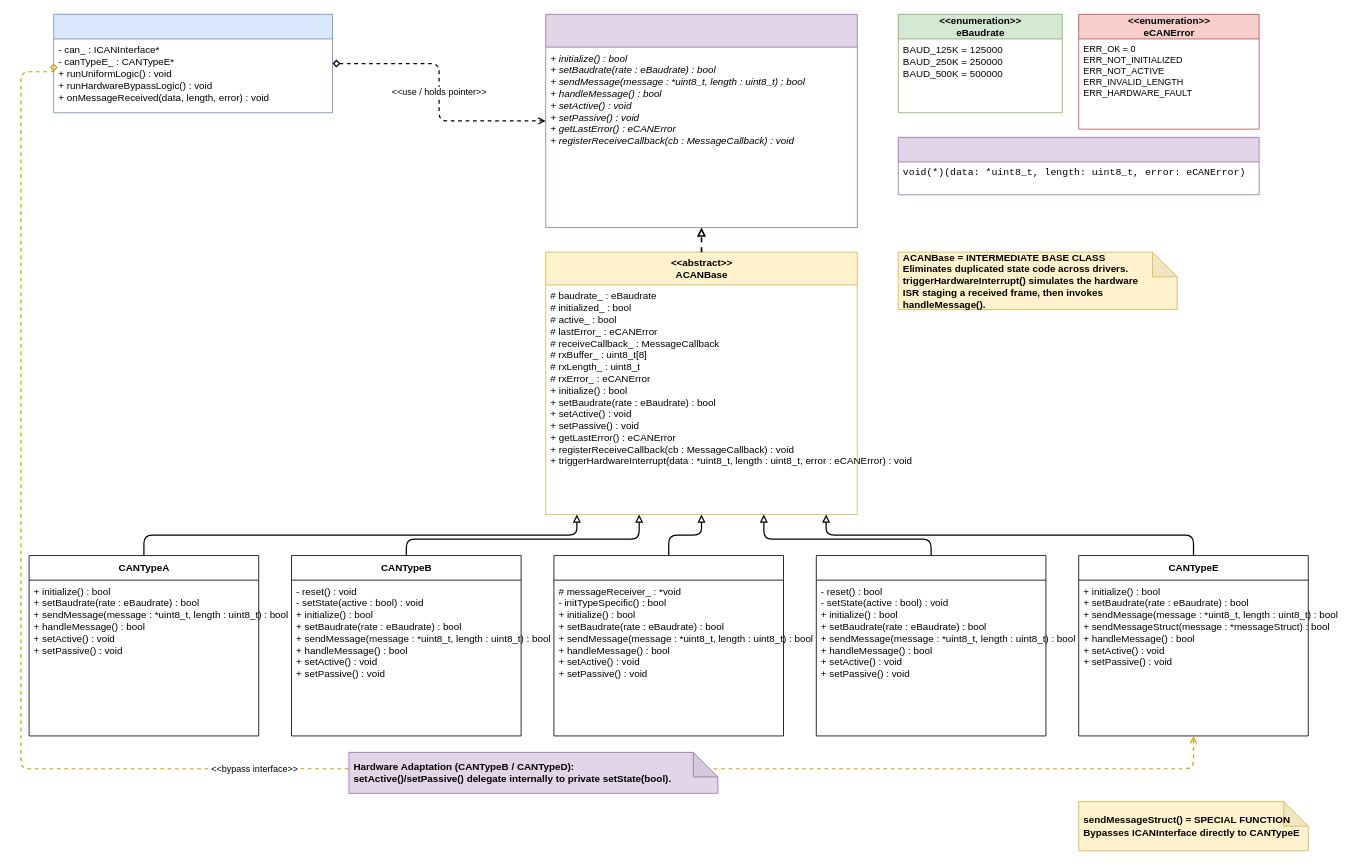
Some shapes in this 1353 by 865 pixel diagram are drawn without their labels. The shapes that lost their labels are listed below. From the top down, each one's box as (x1, y1, x2, y2) in pixels, then its label:
(53, 14, 333, 113): Application
(545, 14, 857, 228): <<interface>> ICANInterface
(897, 137, 1259, 195): <<typedef>> MessageCallback
(553, 555, 784, 736): CANTypeC
(815, 555, 1046, 736): CANTypeD
